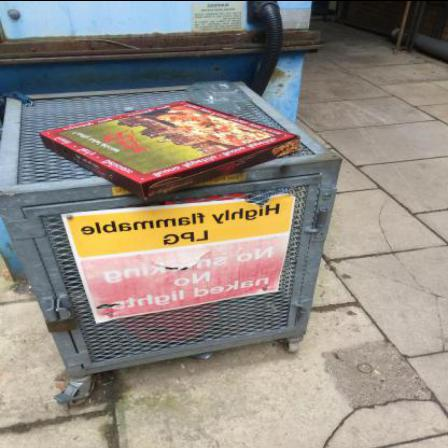Carton: (41, 101, 301, 200)
Plastic container: (187, 82, 253, 114)
